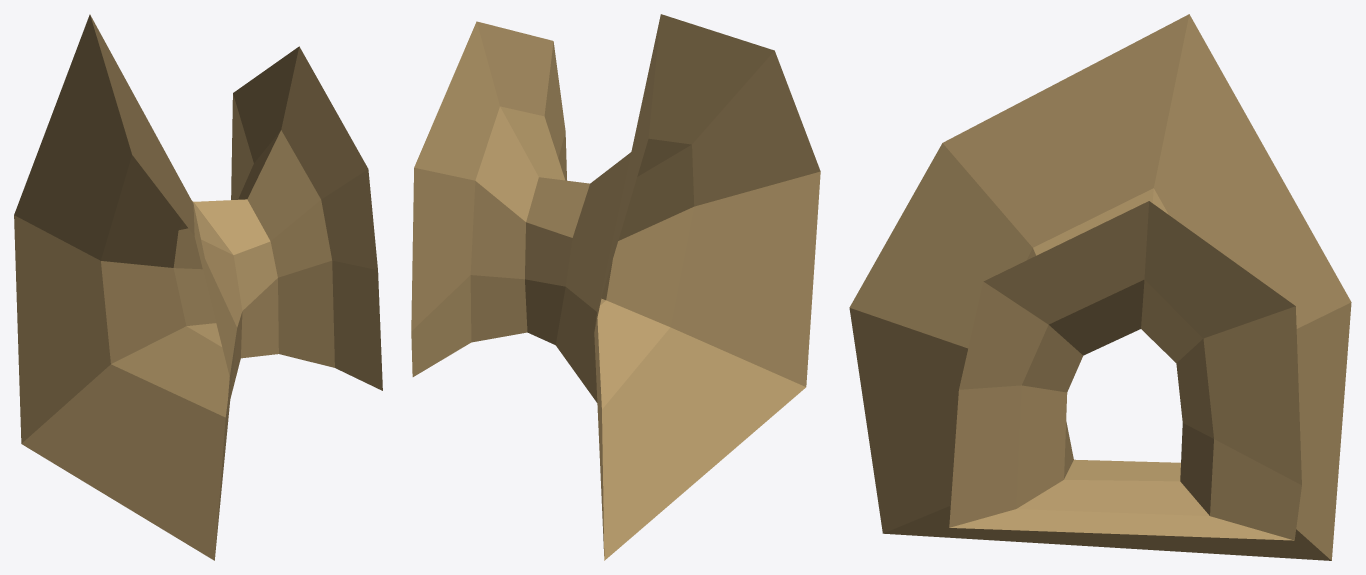
Rendered from DomeExit-adapter-01.fbx.
3 renders of one model, left to right at view 1: azimuth 30°, elevation 25°; view 2: azimuth 150°, elevation 25°; view 3: azimuth 270°, elevation 25°, orthographic. The views are drawn at different scales.
Parts seen in each view (by area): view 1: DomeExit-adapter-01; view 2: DomeExit-adapter-01; view 3: DomeExit-adapter-01.
Boxes of the visible parts, x1,y1,x2,y2 form: DomeExit-adapter-01: (14,14,382,560); DomeExit-adapter-01: (411,14,820,560); DomeExit-adapter-01: (849,14,1351,560).
Size of the model in its own units: 556 by 1259 by 1039.
